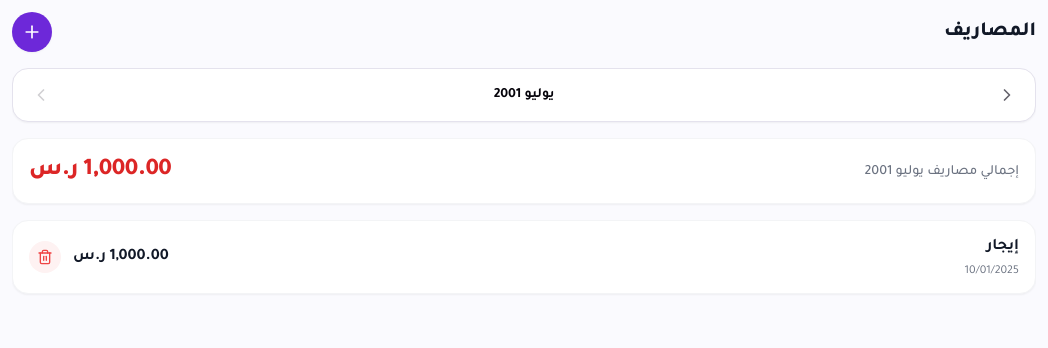
Test: صفحة المصاريف (Expenses) › حذف المصروف › يعرض رسالة ApiError عند فشل الحذف
Expected: the text "إيجار" is shown, [986,239,1019,255]
Click the button named "حذف": (45, 257) [29,241,61,273]
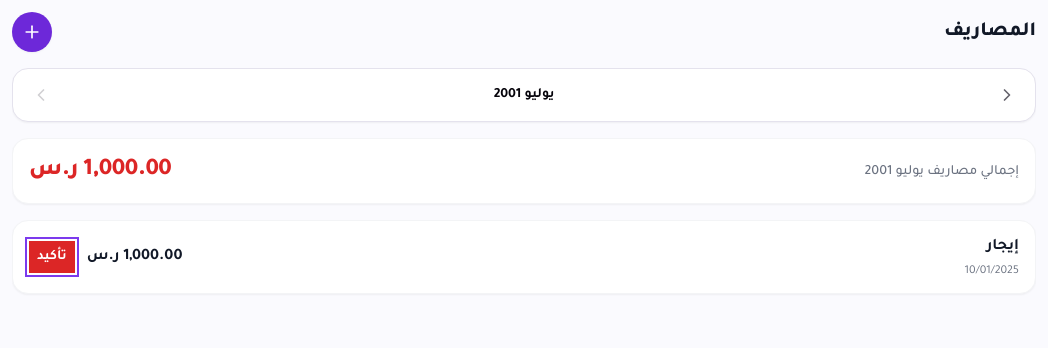
Click the button with aria-label "تأكيد الحذف": (52, 257) [29,241,75,273]
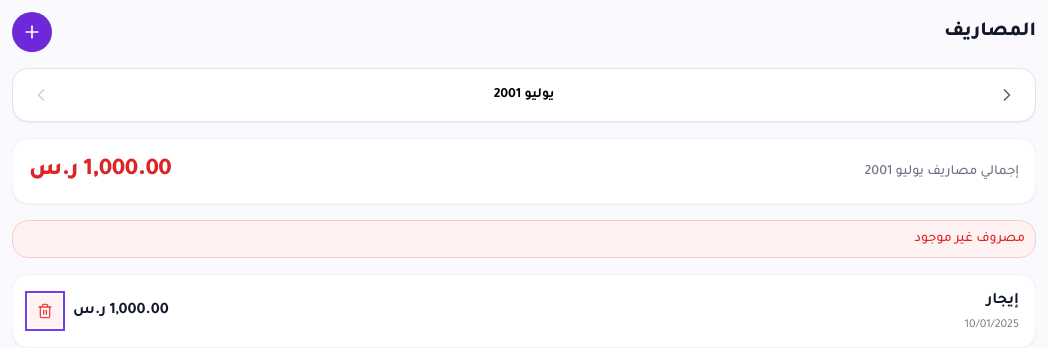
Now the text "مصروف غير موجود" is shown, box [915,232,1025,246]
